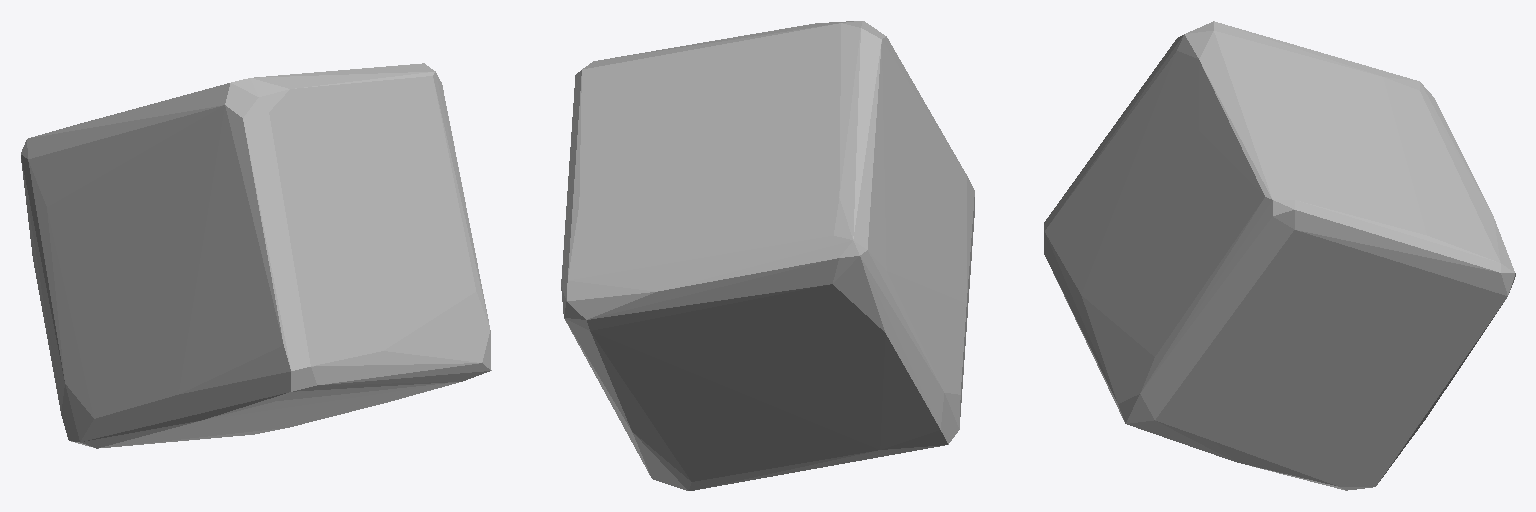
robot.urdf — root:
<robot name="root">
  <link name="link_ycb~b_colored_wood_blocks_convex_piece_0">
    <inertial>
      <origin rpy="0 0 0" xyz="0 0 0"/>
      <mass value="6.56E-02"/>
      <inertia ixx="7.96E-06" ixy="2.26E-08" ixz="6.53E-08" iyy="8.06E-06" iyz="-4.51E-08" izz="8.10E-06"/>
    </inertial>
    <visual>
      <origin rpy="0 0 0" xyz="0 0 0"/>
      <geometry>
        <mesh filename="ycb~b_colored_wood_blocks_convex_piece_0.obj" scale="1.0000E+00 1.0000E+00 1.0000E+00"/>
      </geometry>
      <material name="">
        <color rgba="7.50E-01 7.50E-01 7.50E-01 1"/>
      </material>
    </visual>
    <collision>
      <origin rpy="0 0 0" xyz="0 0 0"/>
      <geometry>
        <mesh filename="ycb~b_colored_wood_blocks_convex_piece_0.obj" scale="1.0000E+00 1.0000E+00 1.0000E+00"/>
      </geometry>
    </collision>
  </link>
</robot>

--- Facts derived from the render (not from the file) ---
Views: 3 orthographic renders of the robot side by side, from view 1: azimuth 30°, elevation 25°; view 2: azimuth 150°, elevation 25°; view 3: azimuth 270°, elevation 25°.
Robot: root — 1 links, 0 joints (none); root link link_ycb~b_colored_wood_blocks_convex_piece_0; default pose: every joint at zero.
Visible links, largest first — view 1: link_ycb~b_colored_wood_blocks_convex_piece_0; view 2: link_ycb~b_colored_wood_blocks_convex_piece_0; view 3: link_ycb~b_colored_wood_blocks_convex_piece_0.
Link boxes in pixels (x1,y1,x2,y2): link_ycb~b_colored_wood_blocks_convex_piece_0: (21, 63, 491, 448); link_ycb~b_colored_wood_blocks_convex_piece_0: (561, 21, 974, 490); link_ycb~b_colored_wood_blocks_convex_piece_0: (1044, 21, 1515, 490).
Size in the robot's own frame: 0.0358 by 0.041 by 0.0397 metres.
1 mesh visuals loaded from 1 distinct referenced files (1 OBJ).
